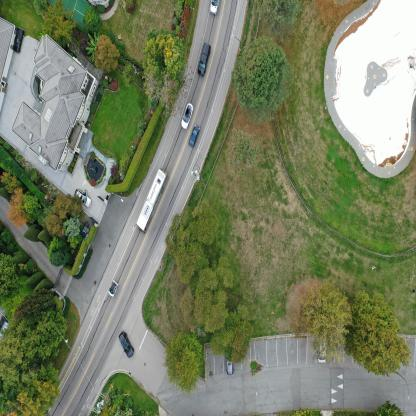Coniferous Tree: (348, 289, 411, 385), (296, 283, 350, 354), (164, 214, 222, 272), (182, 275, 238, 329), (140, 67, 192, 115), (160, 332, 206, 384), (216, 319, 254, 363), (29, 314, 64, 359), (224, 133, 262, 171), (1, 326, 36, 362), (44, 3, 72, 42), (95, 34, 120, 74), (0, 359, 18, 385), (84, 9, 102, 30)
Deciduous Tree: (232, 39, 298, 121), (20, 362, 62, 416), (144, 29, 189, 65), (253, 0, 297, 32)
